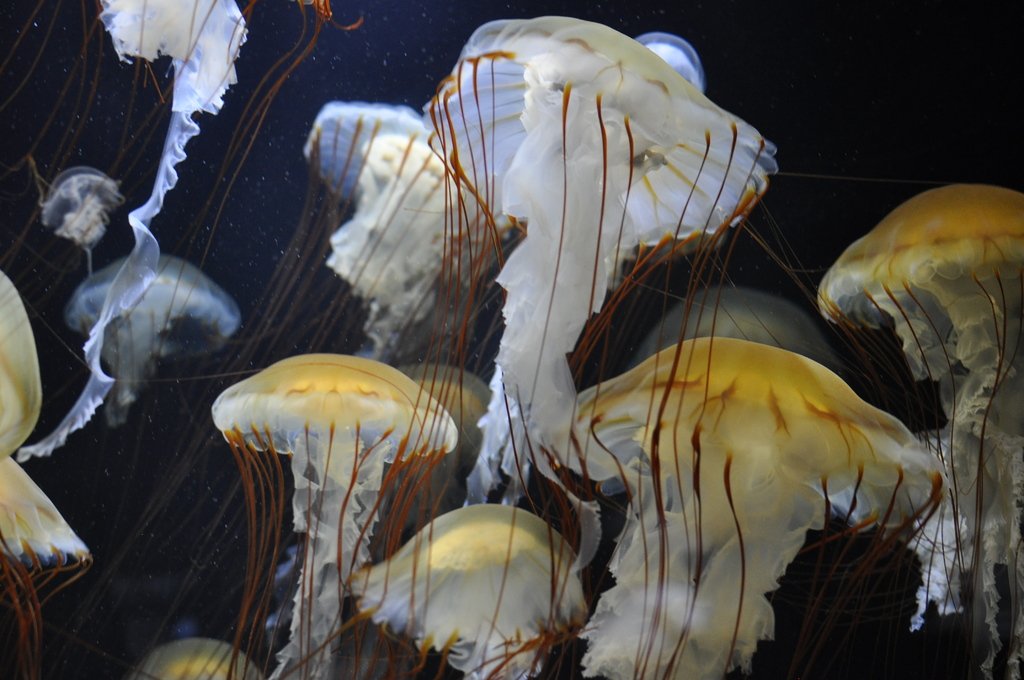Jellyfish: (0, 0, 1023, 679), (421, 9, 776, 508)
